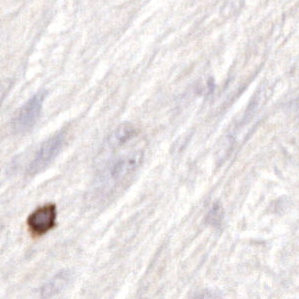Lymphocyte: (27, 205, 58, 232)
